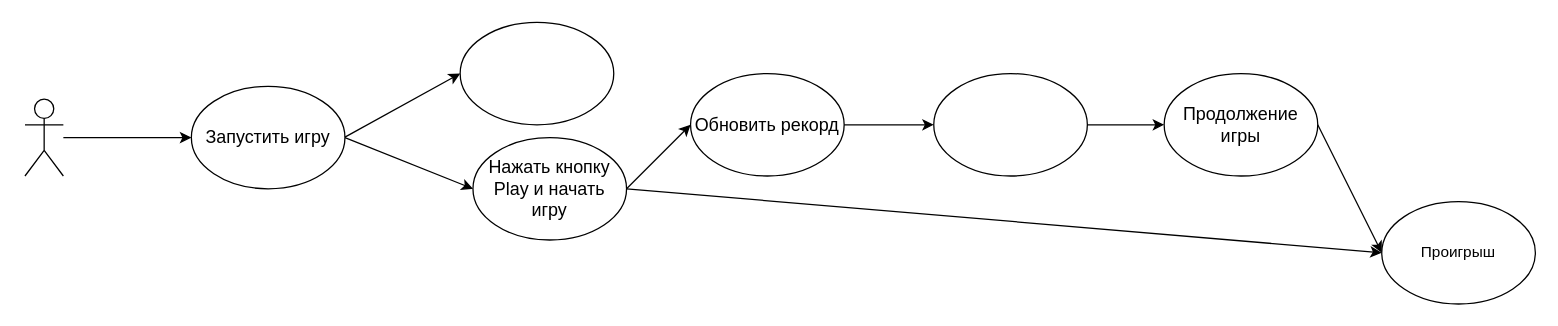
Some shapes in this 1558 by 326 pixel diagram are drawn without their labels. The shapes that lost their labels are listed below. From the top down, each one's centre as x and y in pixels, then its label:
point (536, 73): Закрыть игру
point (43, 137): Player
point (1009, 124): Вносяться изменения в файл со статистикой
